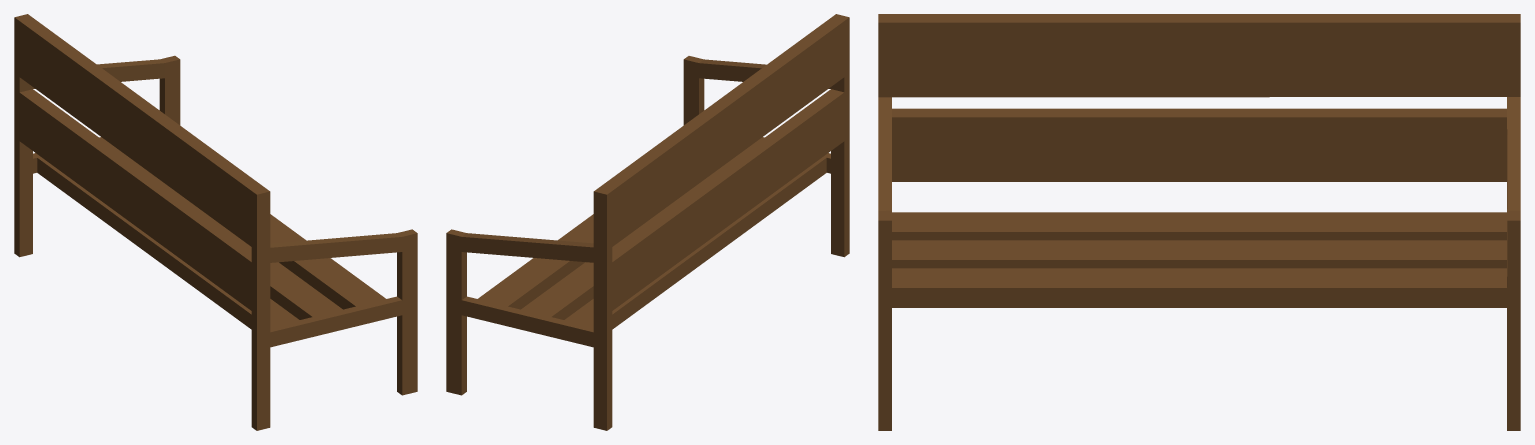
The model's file is Banco.fbx.
3 renders of one model, left to right at view 1: azimuth 30°, elevation 25°; view 2: azimuth 150°, elevation 25°; view 3: azimuth 270°, elevation 25°, orthographic. The views are drawn at different scales.
Parts seen in each view (by area): view 1: Banco; view 2: Banco; view 3: Banco.
Boxes of the visible parts, x1,y1,x2,y2 form: Banco: (14,14,417,430); Banco: (446,14,849,430); Banco: (878,14,1520,430).
Bounding box in the file's own units: 120 × 168 × 313.
